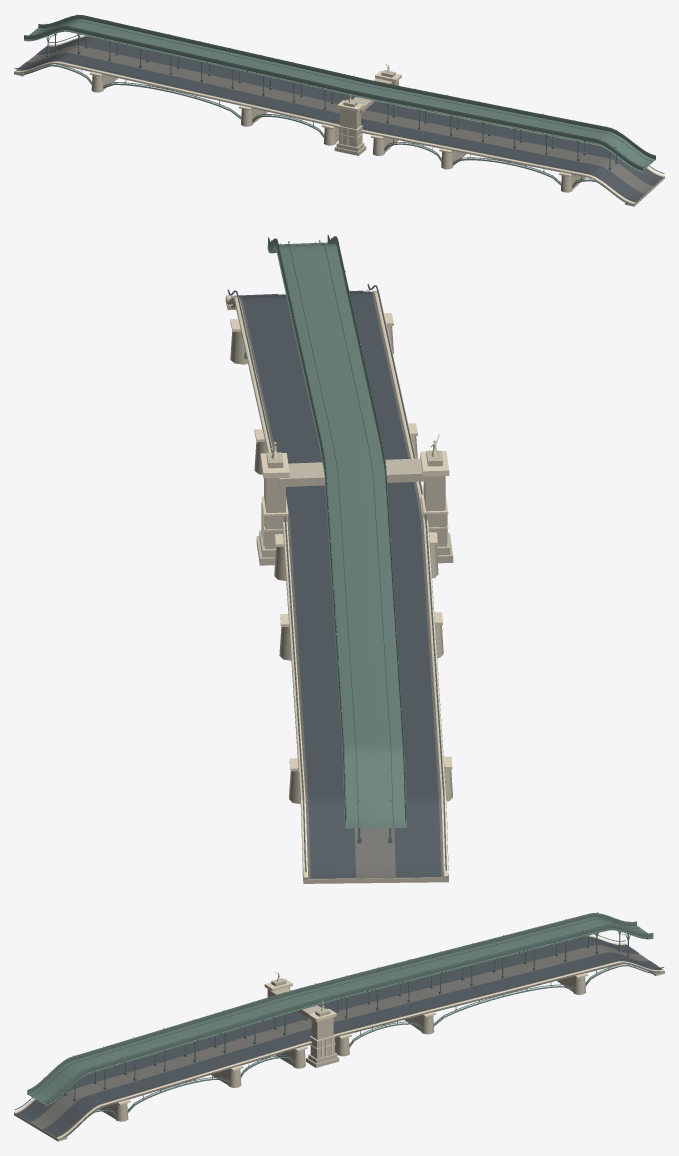
The model's file is paris-pont-bir-hakeim-far.glb.
The picture shows the model from 3 angles, top to bottom: view 1: azimuth 30°, elevation 25°; view 2: azimuth 150°, elevation 25°; view 3: azimuth 270°, elevation 25°; orthographic projection. The views are drawn at different scales.
Visible parts, largest first — view 1: paris-pont-bir-hakeim-steel, paris-pont-bir-hakeim-asphalt, paris-pont-bir-hakeim-deck, paris-pont-bir-hakeim-stone, paris-pont-bir-hakeim-trim, paris-pont-bir-hakeim-rail; view 2: paris-pont-bir-hakeim-asphalt, paris-pont-bir-hakeim-steel, paris-pont-bir-hakeim-stone, paris-pont-bir-hakeim-trim, paris-pont-bir-hakeim-deck, paris-pont-bir-hakeim-rail; view 3: paris-pont-bir-hakeim-steel, paris-pont-bir-hakeim-asphalt, paris-pont-bir-hakeim-deck, paris-pont-bir-hakeim-stone, paris-pont-bir-hakeim-trim, paris-pont-bir-hakeim-rail.
Part boxes in pixels (bbox=[...]): paris-pont-bir-hakeim-steel: bbox=[24, 15, 655, 202]; paris-pont-bir-hakeim-asphalt: bbox=[16, 37, 662, 202]; paris-pont-bir-hakeim-deck: bbox=[14, 36, 664, 205]; paris-pont-bir-hakeim-stone: bbox=[14, 70, 664, 206]; paris-pont-bir-hakeim-trim: bbox=[14, 35, 664, 203]; paris-pont-bir-hakeim-rail: bbox=[14, 14, 664, 200]; paris-pont-bir-hakeim-asphalt: bbox=[233, 290, 441, 878]; paris-pont-bir-hakeim-steel: bbox=[231, 235, 406, 843]; paris-pont-bir-hakeim-stone: bbox=[225, 297, 453, 883]; paris-pont-bir-hakeim-trim: bbox=[226, 289, 452, 877]; paris-pont-bir-hakeim-deck: bbox=[226, 291, 448, 879]; paris-pont-bir-hakeim-rail: bbox=[227, 238, 446, 872]; paris-pont-bir-hakeim-steel: bbox=[27, 913, 654, 1136]; paris-pont-bir-hakeim-asphalt: bbox=[16, 936, 662, 1137]; paris-pont-bir-hakeim-deck: bbox=[14, 944, 663, 1139]; paris-pont-bir-hakeim-stone: bbox=[14, 971, 664, 1141]; paris-pont-bir-hakeim-trim: bbox=[14, 935, 664, 1138]; paris-pont-bir-hakeim-rail: bbox=[15, 912, 664, 1135].
Bounding box in the file's own units: 151 × 23 × 213.
